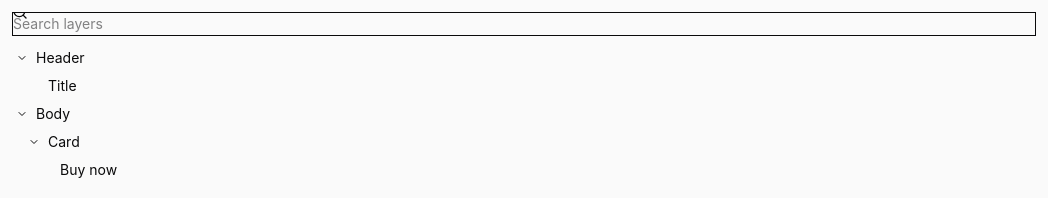
Test case: selection › reveals a row that was collapsed when it is selected
Click the button named "Collapse Body". click: x=22, y=114
box: [12,104,32,124]
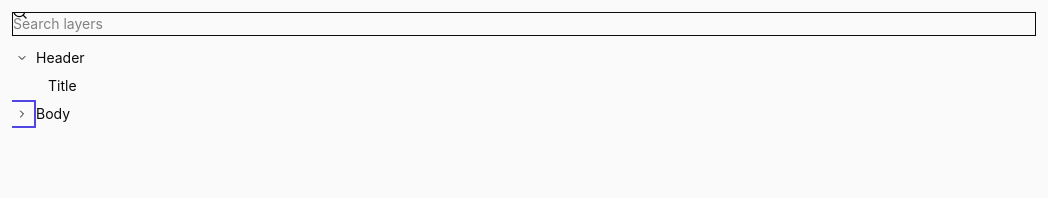
Now the button "Buy now" is gone
Click the button "Body". click: x=53, y=114
box: [36,103,984,126]
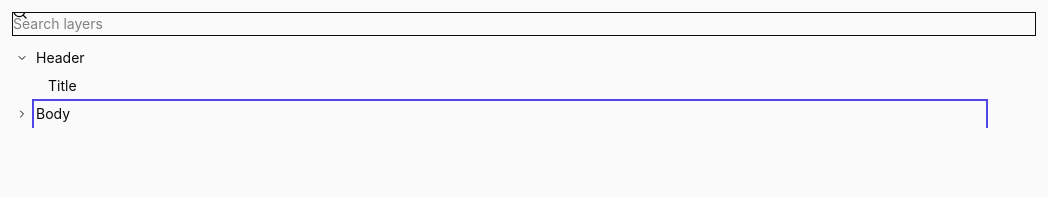
Press Arrowright Arrowdown Arrowdown
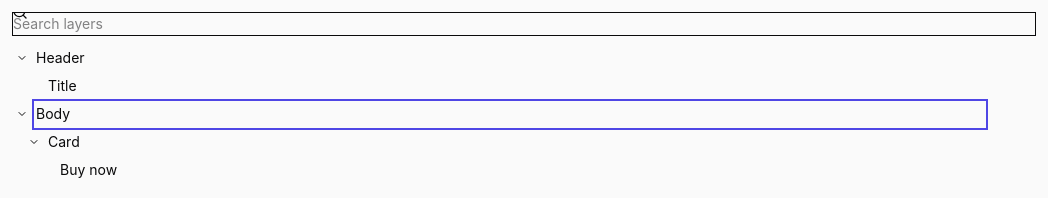
Now the button "Buy now" is shown, box [60,159,984,182]
